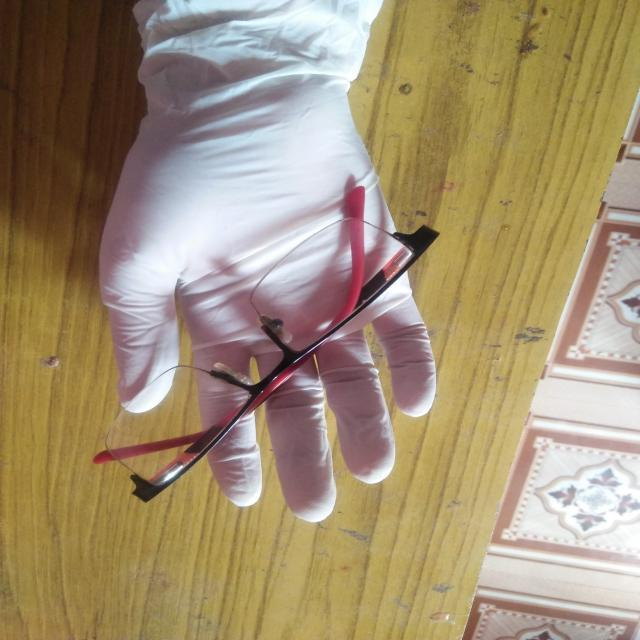gloved_hand: (91, 1, 443, 526)
